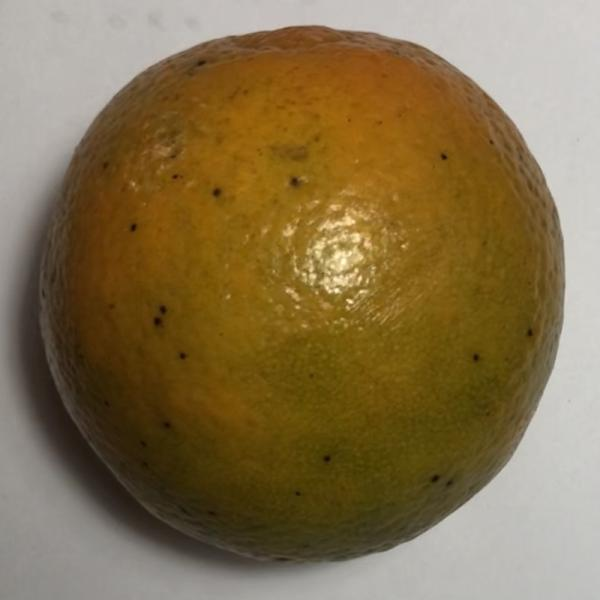Machas negras: (29, 21, 583, 566)
